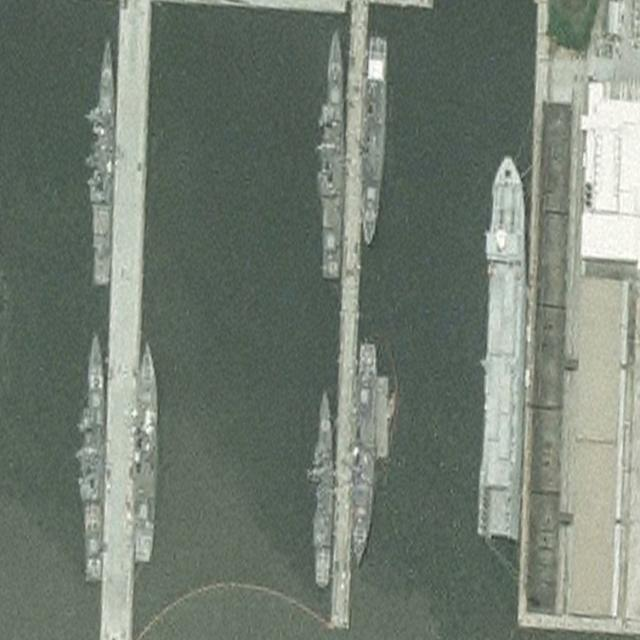Cargo: (477, 153, 530, 542)
Cruiser: (83, 39, 116, 286), (75, 332, 105, 585), (316, 30, 345, 277)
Destroyer: (134, 337, 161, 566), (362, 35, 386, 245)
Other Warship: (350, 343, 378, 570), (307, 389, 333, 589)
